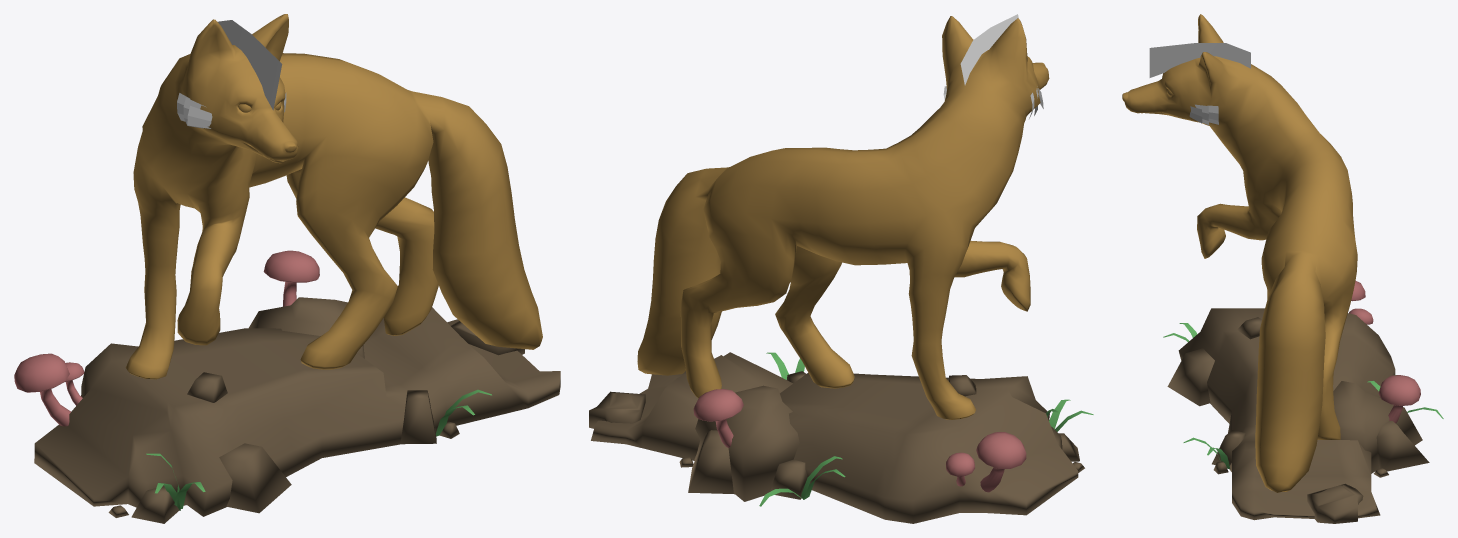
File: Fox Model v16 (Hair FBX).fbx
3 renders of one model, left to right at view 1: azimuth 30°, elevation 25°; view 2: azimuth 150°, elevation 25°; view 3: azimuth 270°, elevation 25°, orthographic. The views are drawn at different scales.
Parts seen in each view (by area): view 1: polySurface18_e_64_4, pCube19, polySurface19, polySurface31, pPlane13; view 2: polySurface18_e_64_4, pCube19, polySurface19, pPlane13, polySurface31; view 3: polySurface18_e_64_4, pCube19, polySurface31, polySurface19, pPlane13.
Part boxes in pixels (<box>): polySurface18_e_64_4: <box>125,14,542,379</box>; pCube19: <box>34,297,560,523</box>; polySurface19: <box>14,250,319,426</box>; polySurface31: <box>217,20,282,110</box>; pPlane13: <box>146,389,491,510</box>; polySurface18_e_64_4: <box>637,16,1049,419</box>; pCube19: <box>589,352,1084,523</box>; polySurface19: <box>693,389,1026,492</box>; pPlane13: <box>759,352,1093,506</box>; polySurface31: <box>960,14,1018,85</box>; polySurface18_e_64_4: <box>1122,14,1357,492</box>; pCube19: <box>1167,308,1429,523</box>; polySurface31: <box>1149,43,1250,77</box>; polySurface19: <box>1349,281,1420,423</box>; pPlane13: <box>1163,323,1443,468</box>.
Bounding box in the file's own units: 5.07 × 4.78 × 3.81.
